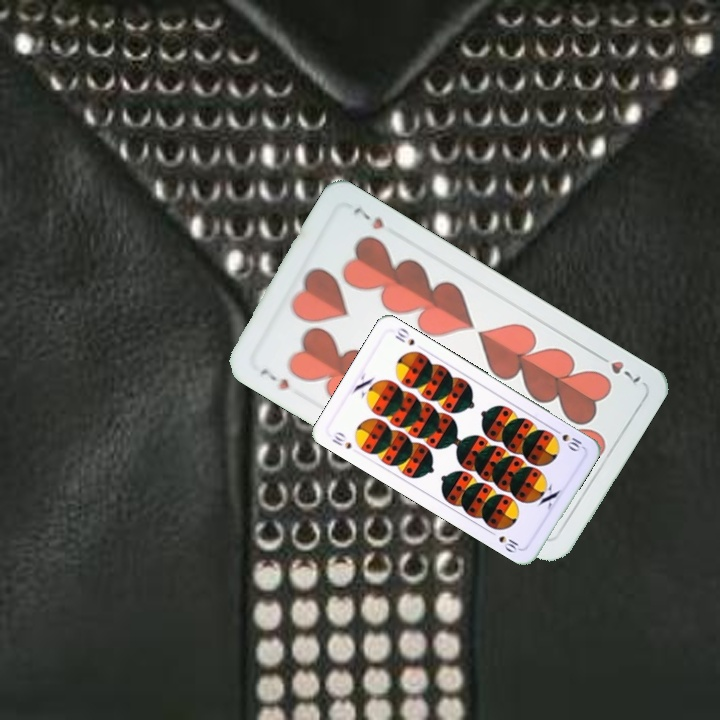H7: (591, 349, 643, 388), (256, 363, 292, 393)
S10: (549, 424, 586, 454), (327, 428, 354, 452)
